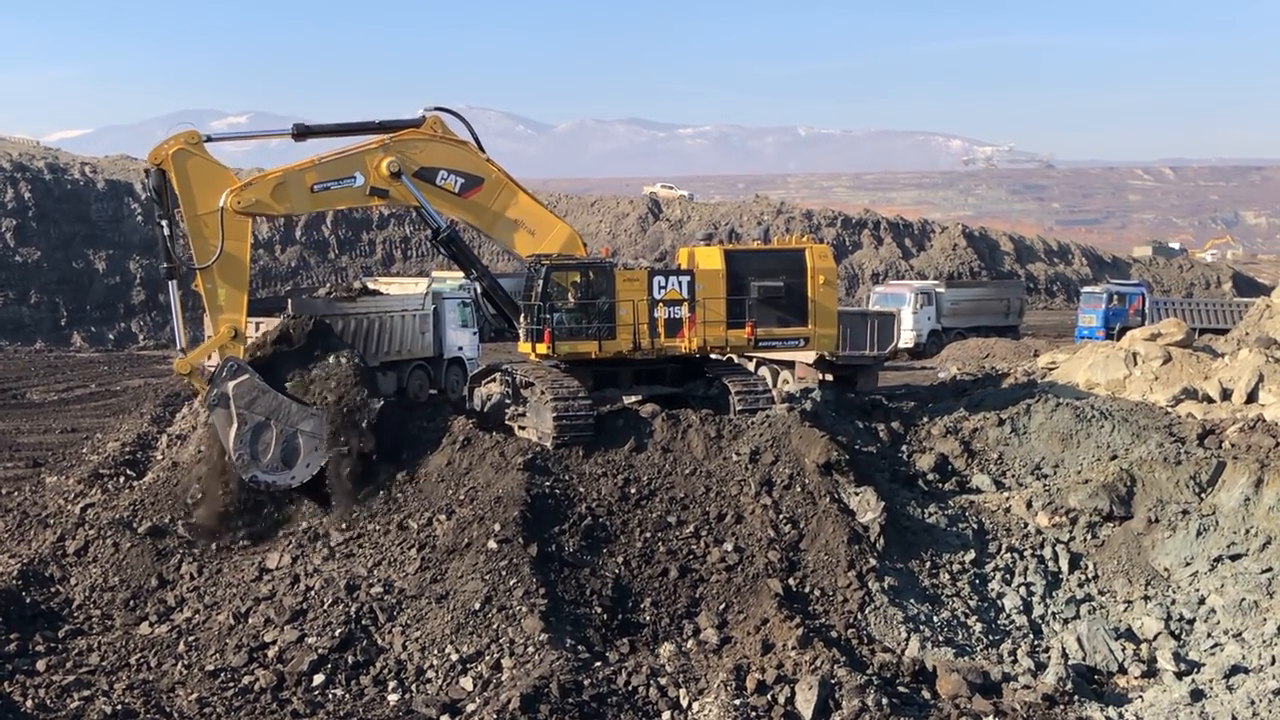full: (199, 311, 387, 499)
